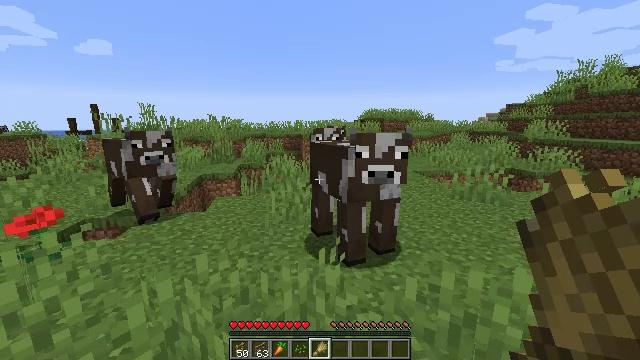cow: (313, 134, 407, 262), (104, 130, 174, 214), (309, 127, 345, 186)
